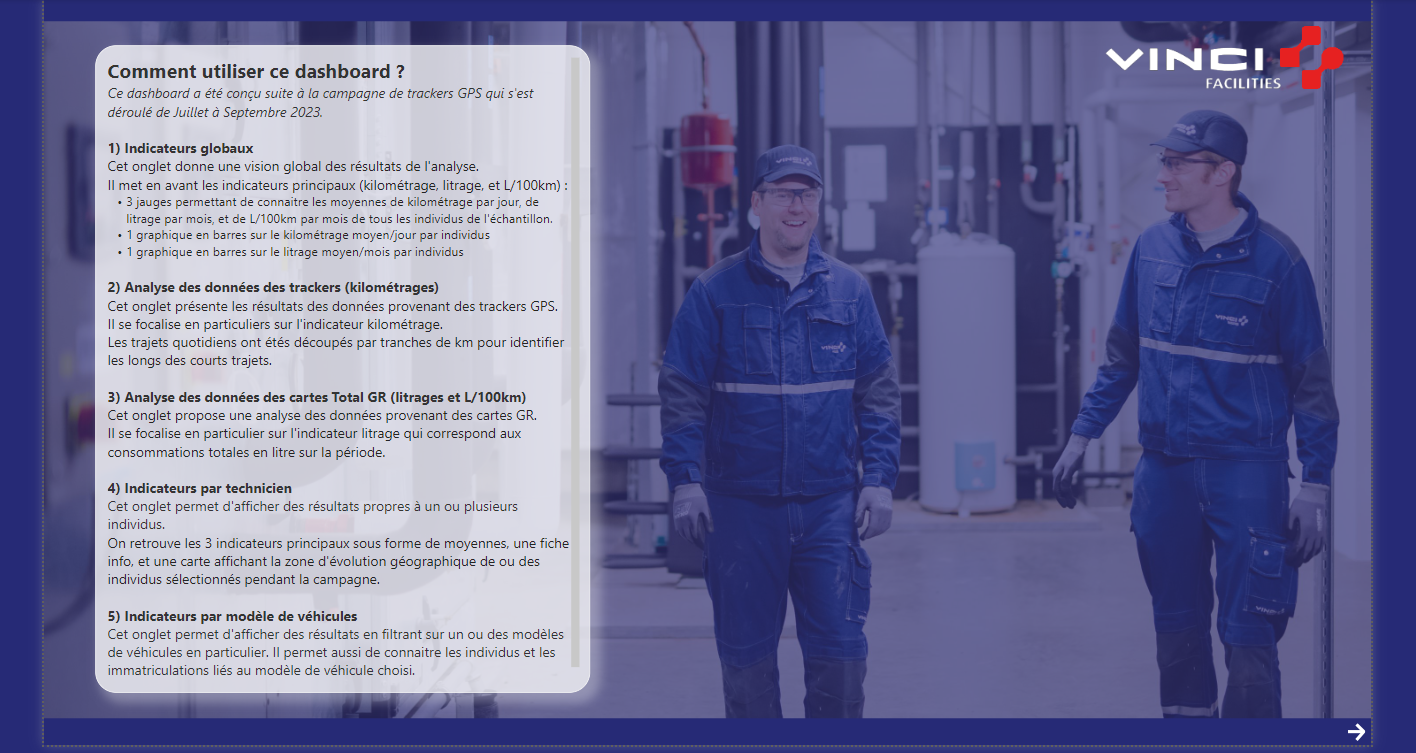

The page's visual inventory and layout, read from the dashboard file:
{"tool":"powerbi","page":{"name":"Accueil","canvas":[1280,720],"ordinal":0},"visuals":[{"type":"textbox","box":[50,44.5,477.3,624.5],"z":0},{"type":"image","box":[997.5,0,282.9,116.2],"z":1000},{"type":"actionButton","box":[1252.7,694.5,26.4,25.5],"z":2000}]}

Visuals, with their boxes on the page's 1280x720 design canvas (x1, y1, x2, y2). These are canvas units, not pixel positions in the 1416x753 screenshot, which may show the page scaled, cropped or inside an application window:
textbox: region(50, 44, 527, 669)
image: region(998, 0, 1280, 116)
actionButton: region(1253, 694, 1279, 720)
